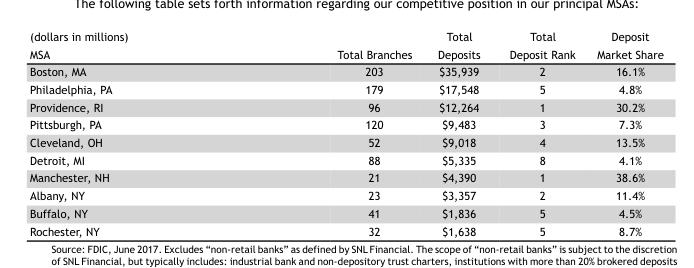table: (29, 29, 662, 237)
table column: (29, 29, 231, 237), (231, 29, 424, 237), (494, 29, 585, 237), (585, 29, 662, 237), (424, 29, 494, 237)
table column header: (29, 29, 662, 62)
table row: (29, 29, 662, 62), (29, 79, 662, 97), (29, 97, 662, 115), (29, 115, 662, 133), (29, 150, 662, 168), (29, 168, 662, 186), (29, 203, 662, 221), (29, 62, 662, 79), (29, 133, 662, 150), (29, 186, 662, 203), (29, 221, 662, 237)
